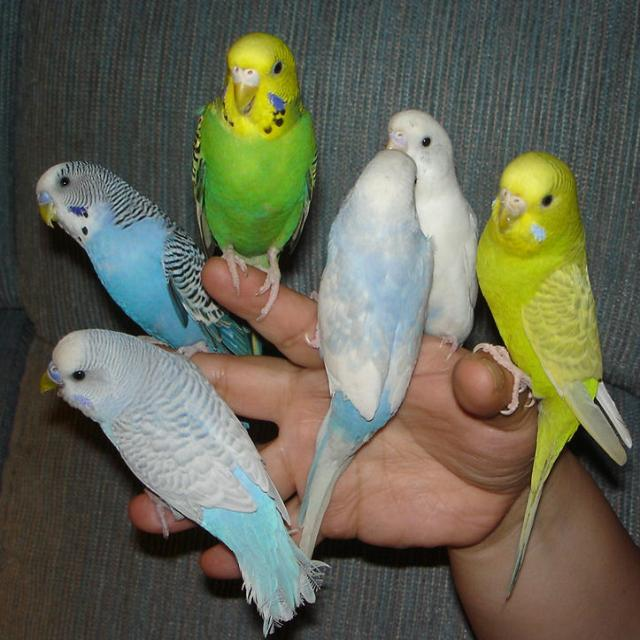bird: (34, 329, 340, 640), (473, 150, 636, 626), (294, 149, 424, 546), (32, 158, 260, 351), (182, 24, 327, 303), (391, 104, 477, 357)
